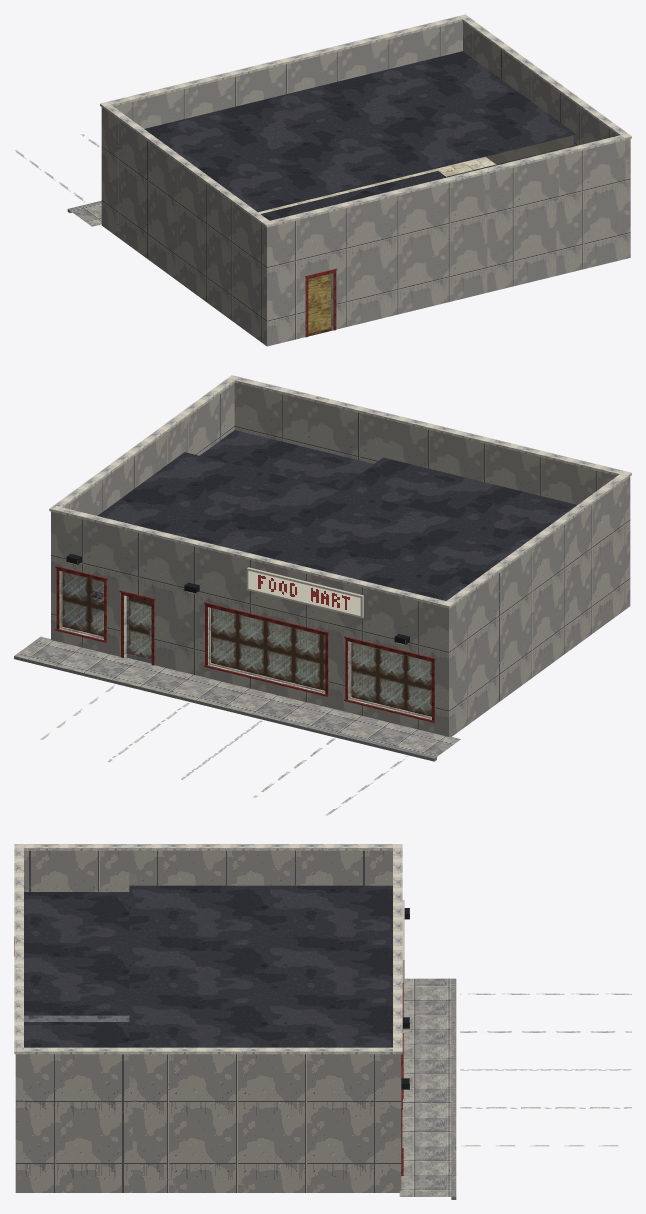
Rendered from COM_GasStation.glb.
3 views of the same model, one above another, from view 1: azimuth 30°, elevation 25°; view 2: azimuth 150°, elevation 25°; view 3: azimuth 270°, elevation 25° (orthographic). The views are drawn at different scales.
Parts seen in each view (by area): view 1: COM_GasStation_Exterior, COM_GasStation_Interior, INT_Door_BackExit; view 2: COM_GasStation_Exterior, COM_GasStation_Interior, INT_Door_Entrance; view 3: COM_GasStation_Exterior, COM_GasStation_Interior.
Part boxes in pixels (x1,y1,x2,y2): COM_GasStation_Exterior: [15, 14, 631, 346]; COM_GasStation_Interior: [258, 135, 573, 213]; INT_Door_BackExit: [308, 273, 330, 333]; COM_GasStation_Exterior: [14, 375, 631, 815]; COM_GasStation_Interior: [64, 573, 431, 712]; INT_Door_Entrance: [126, 596, 151, 663]; COM_GasStation_Exterior: [14, 844, 631, 1199]; COM_GasStation_Interior: [24, 1015, 129, 1021].
Size of what is drawn, in the model's own units: 15 by 4.58 by 17.95.
Materials: 19 (19 with a texture image).
